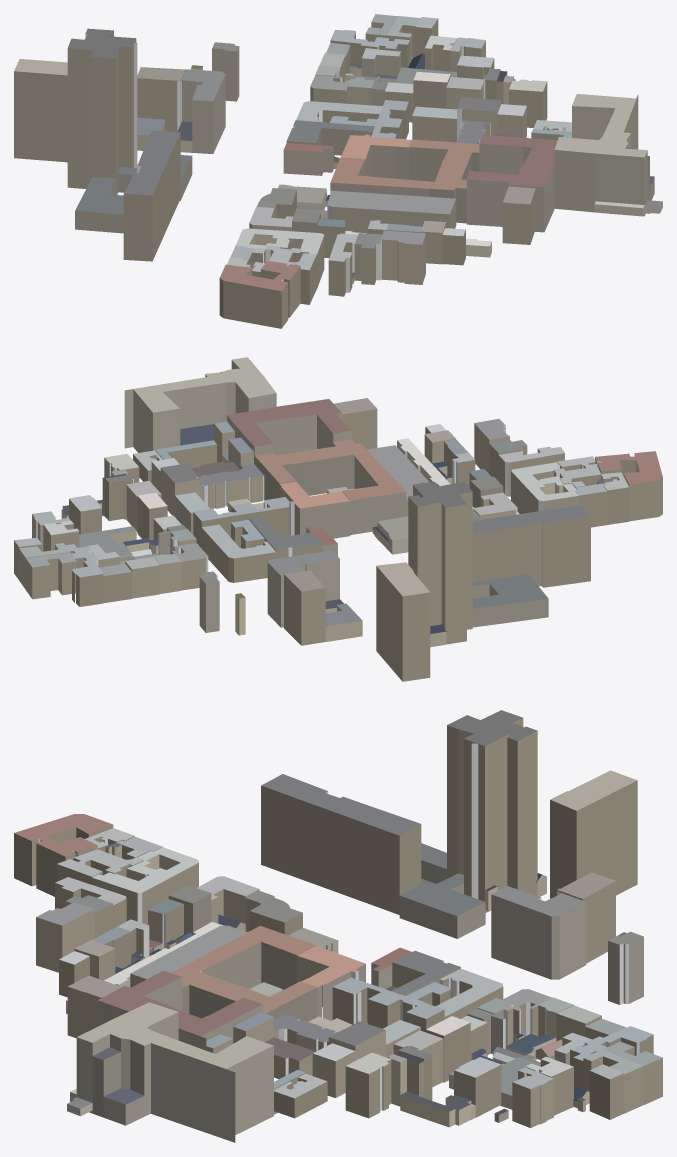
The picture shows the model from 3 angles, top to bottom: view 1: azimuth 30°, elevation 25°; view 2: azimuth 150°, elevation 25°; view 3: azimuth 270°, elevation 25°; orthographic projection. The views are drawn at different scales.
Parts seen in each view (by area): view 1: tuile; view 2: tuile; view 3: tuile.
Boxes of the visible parts, <box> form: tuile: <box>14,14,662,328</box>; tuile: <box>14,357,662,681</box>; tuile: <box>14,710,662,1142</box>.
Bounding box in the file's own units: 300 × 81.23 × 282.
